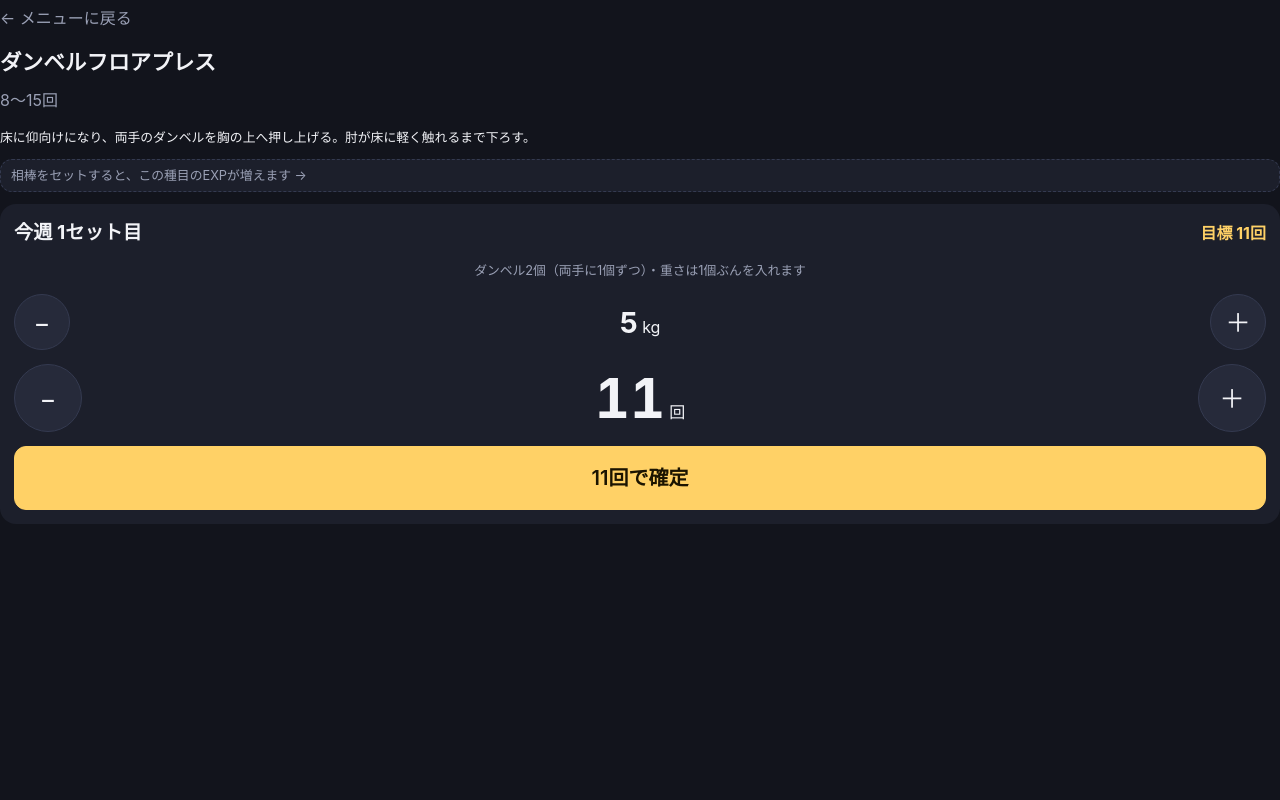
Test case: 画面の表示 › セット入力：全消しした瞬間に演出が出る
Click the button "11回で確定" at point(640, 478), box [14, 446, 1266, 510]
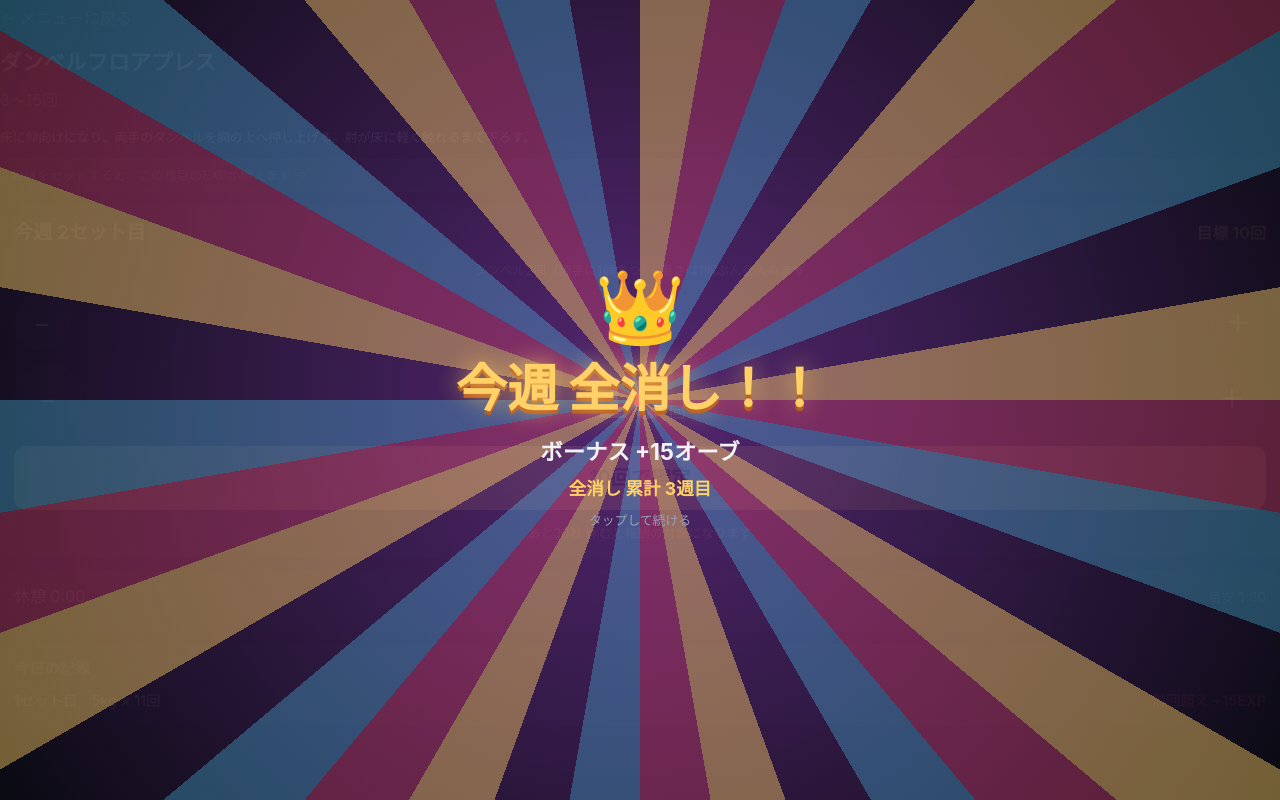
Now the text "今週 全消し！！" is shown, box [456, 350, 824, 427]
Now the text "+15オーブ" is shown, box [540, 435, 740, 468]
Now the text "累計 3週目" is shown, box [568, 476, 711, 503]
